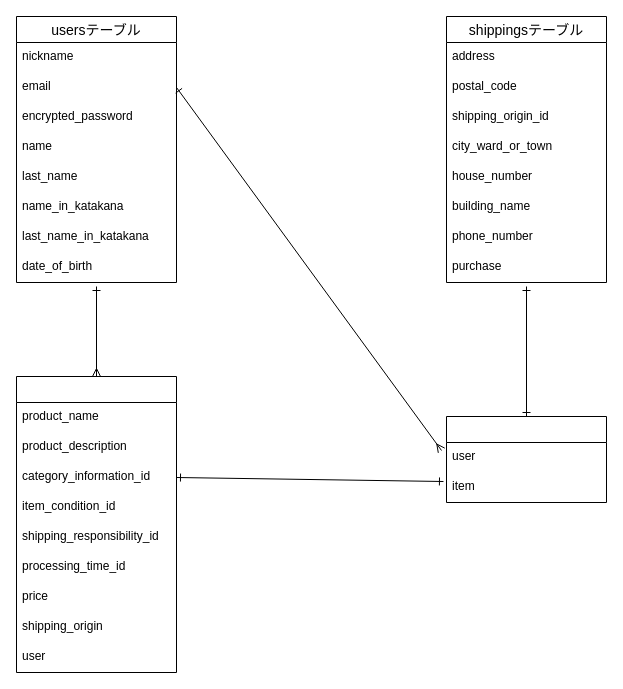
Some shapes in this 623 by 689 pixel diagram are drawn without their labels. The box of each missing label's shape, as (x1, y1, x2, y2) in pixels:
itemsテーブル: (16, 376, 176, 672)
purchasesテーブル: (446, 416, 606, 502)
